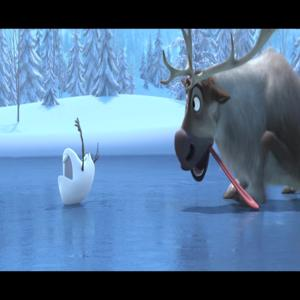olaf: (54, 120, 106, 216)
sven: (159, 42, 288, 197)
